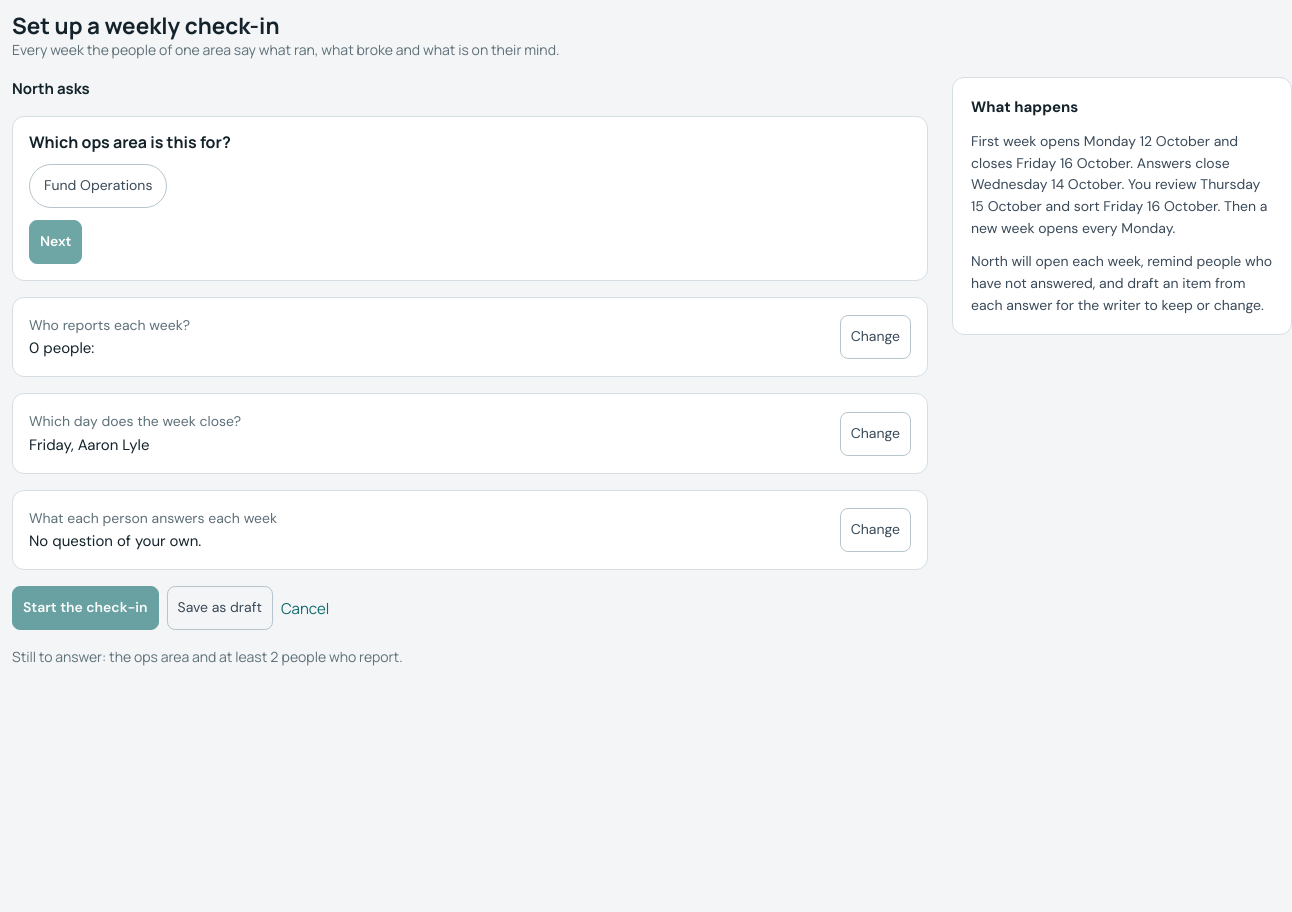
Scenario: question 3 shows its heading once and the still-to-answer line names what is open in plain words
Expected: the text "Still to answer: the ops area and at least 2 people who report." is shown, [12,647,403,666]
Click the button "Fund Operations" at (98, 186), box [29,164,167,208]
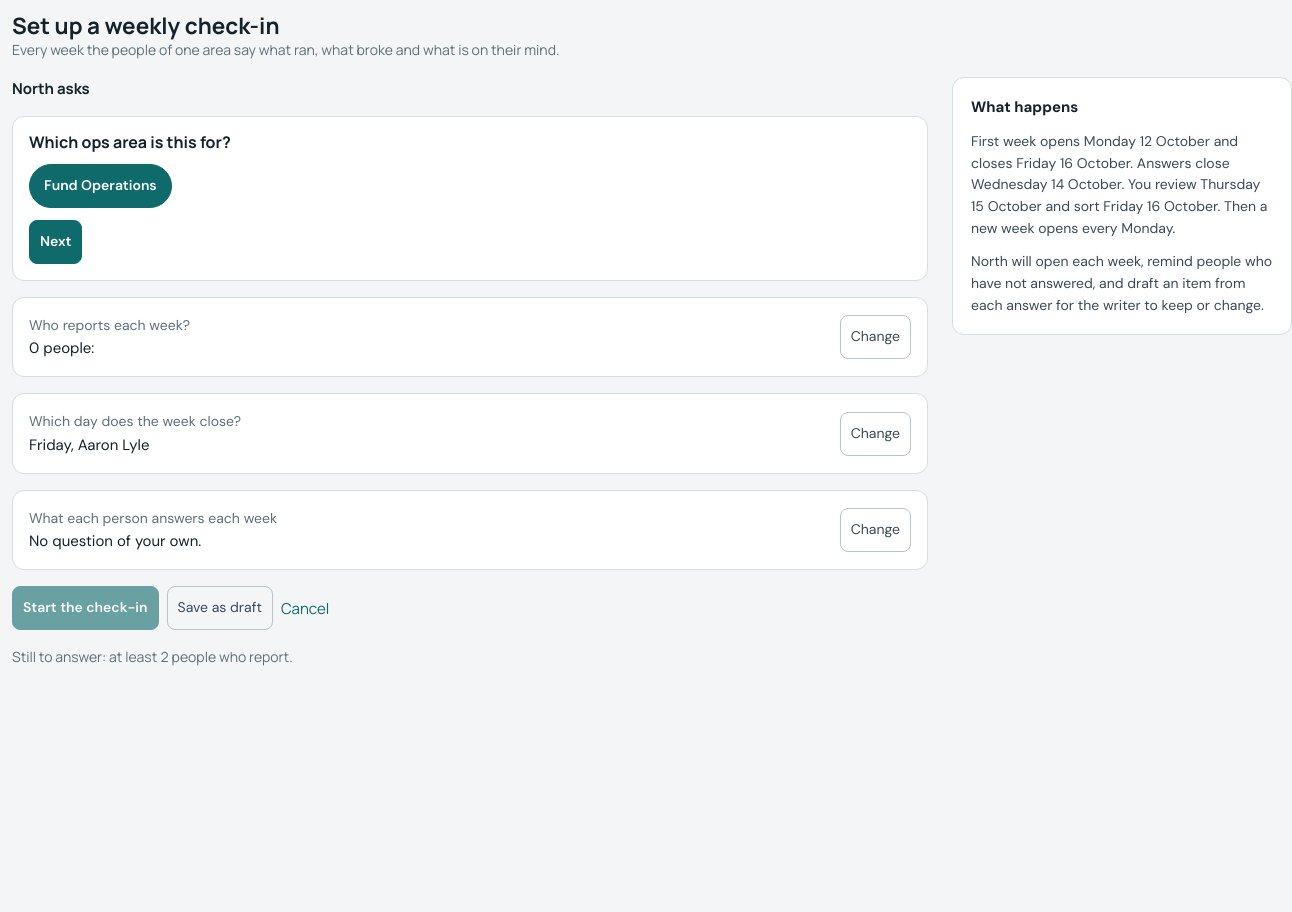
Now the text "Still to answer: at least 2 people who report." is shown, box [12,647,293,666]
Click the button "Change" in the row of "Which day does the week close?" at (875, 434), box [840,412,911,456]
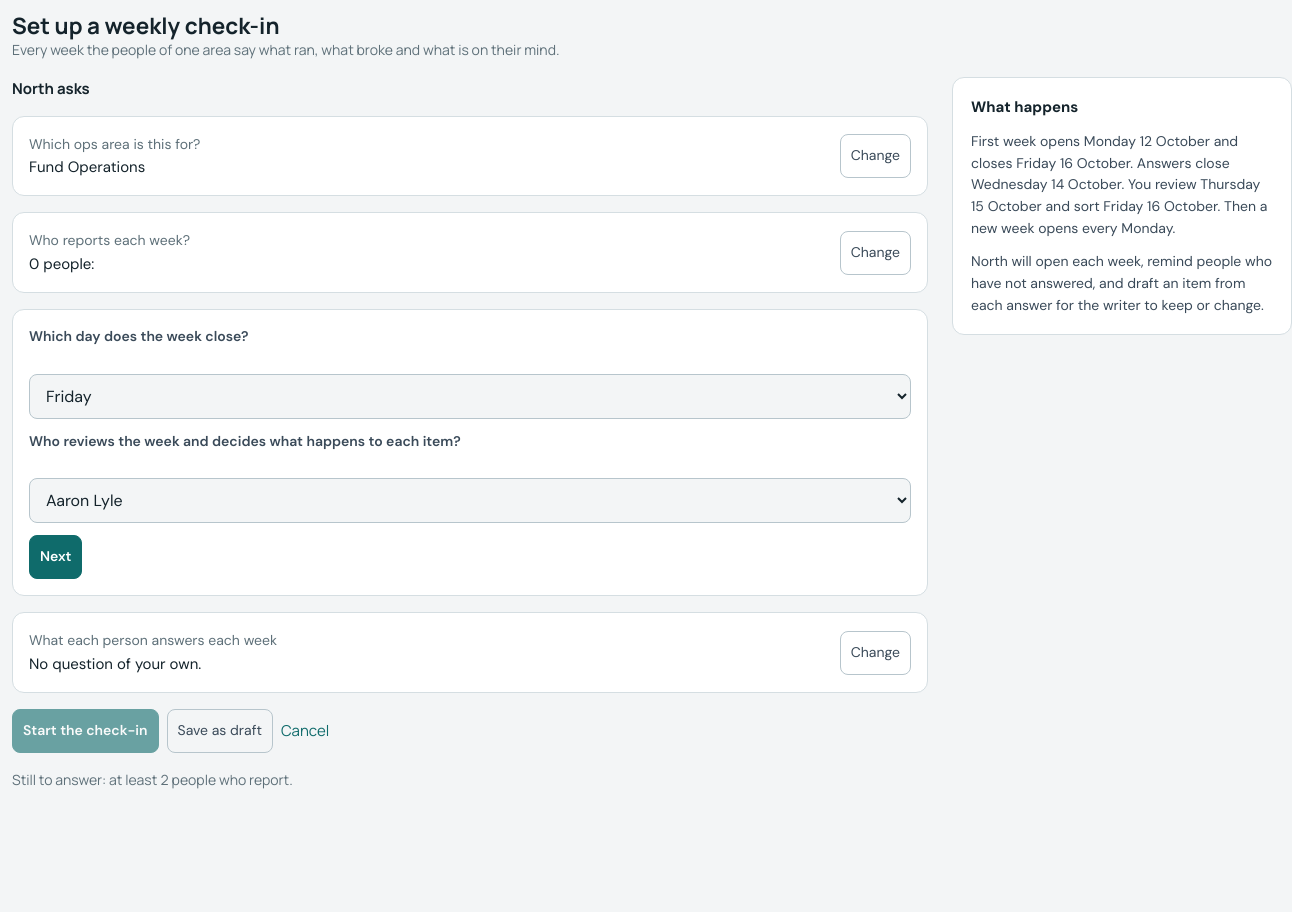
Now the text "Which day does the week close?" is shown once, box [29,327,248,345]
